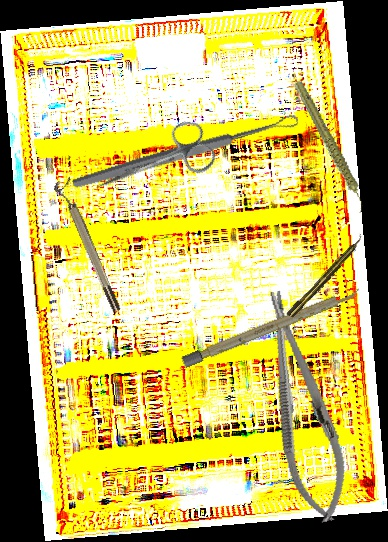Fixation Ring: (52, 176, 123, 316)
Handpiece: (292, 72, 367, 222), (285, 233, 367, 320)
Iris Scissors: (86, 115, 220, 215)
Needle Holder: (248, 284, 358, 528)
Scalpel Handle: (180, 285, 363, 369)
Surgical Spoon: (70, 112, 301, 192)
